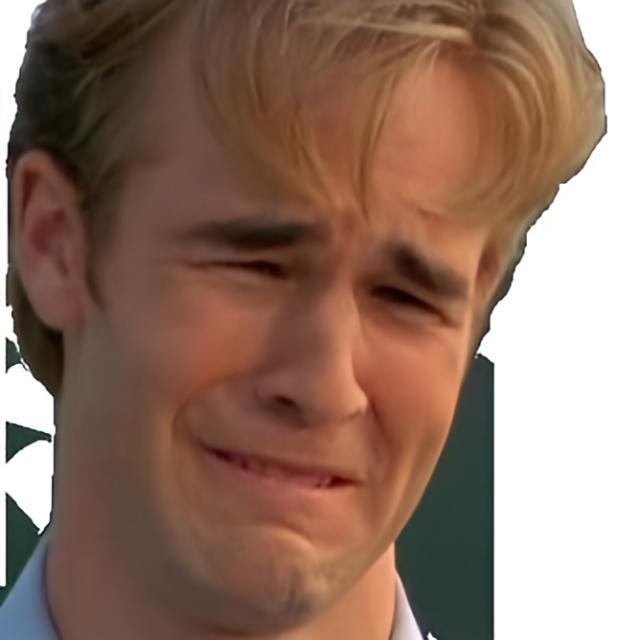sad: (85, 26, 502, 638)
